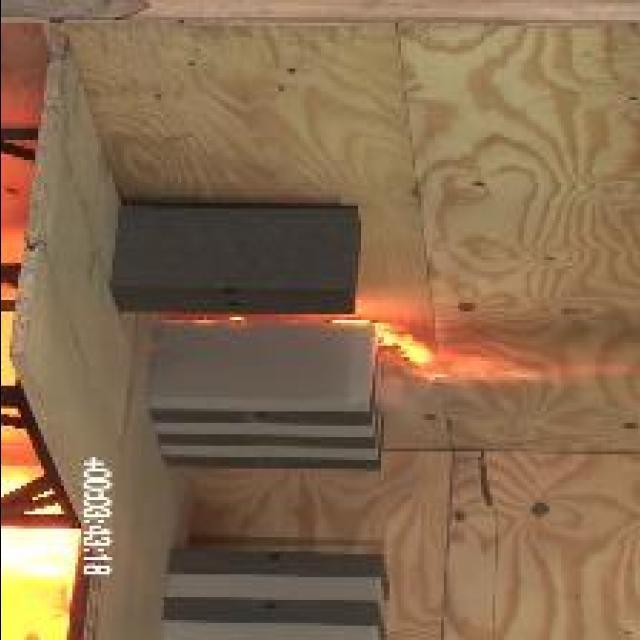Fire: (377, 318, 640, 384)
